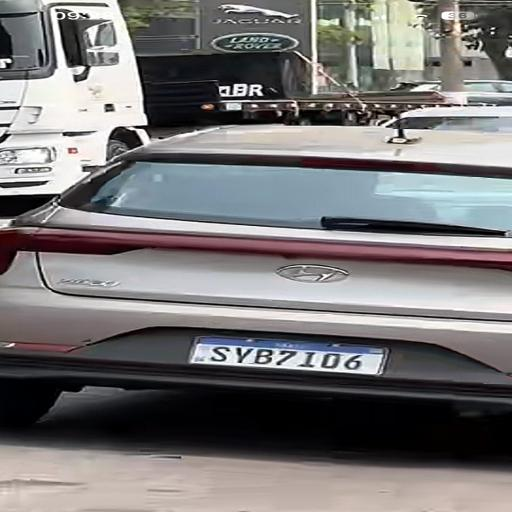detec-o-placas: (115, 268, 474, 425)
